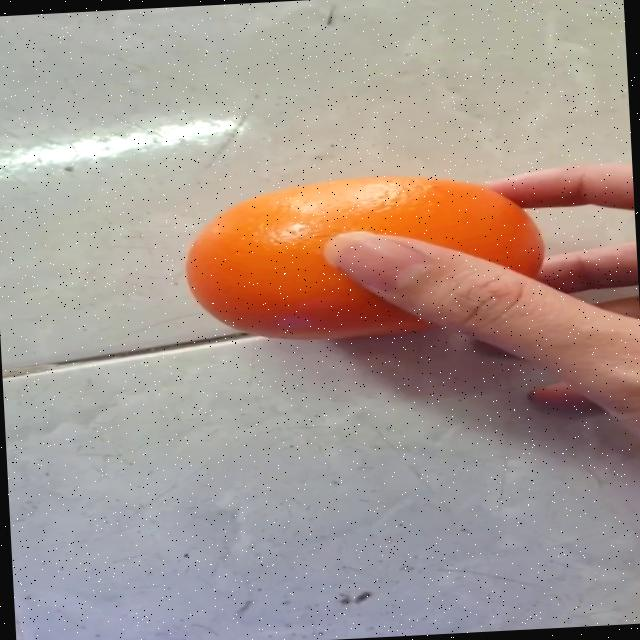orange: (154, 150, 586, 362)
